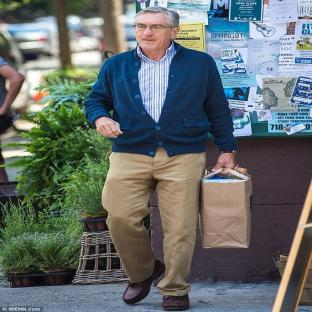Human: (84, 7, 237, 310)
